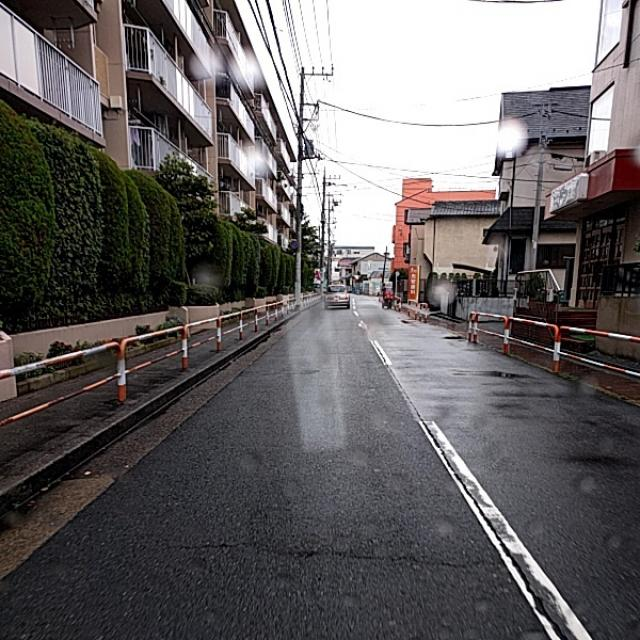pothole: (411, 455, 510, 544)
